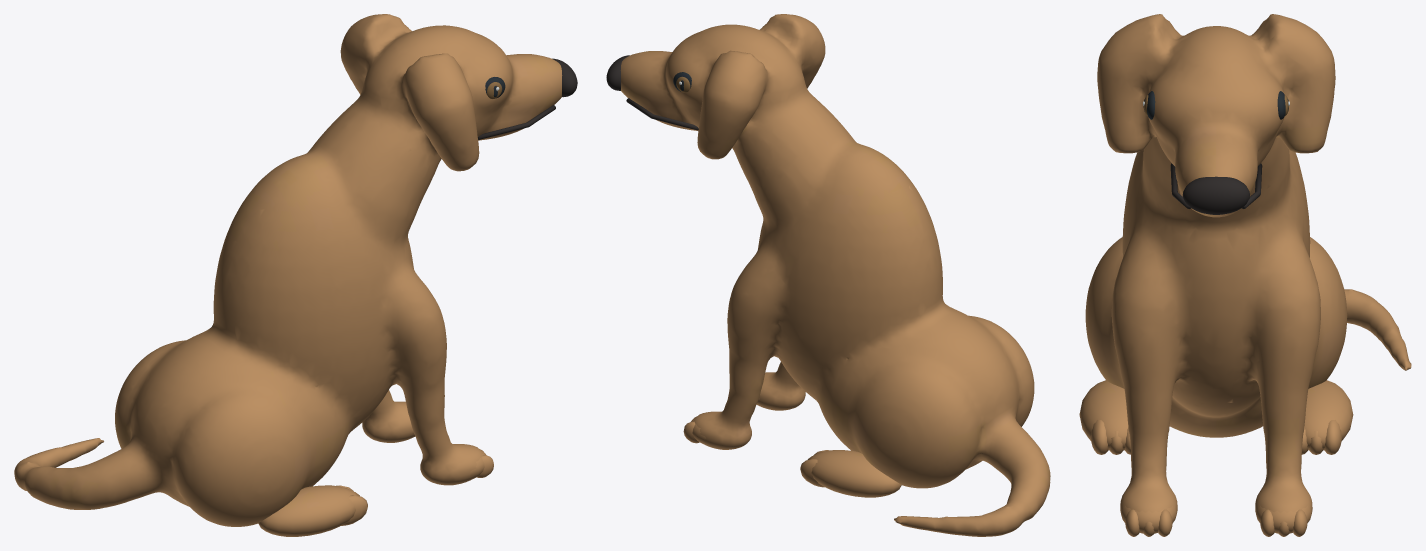
Rendered from nature-dog-medium-sitting.glb.
The picture shows the model from 3 angles, left to right: view 1: azimuth 30°, elevation 25°; view 2: azimuth 150°, elevation 25°; view 3: azimuth 270°, elevation 25°; orthographic projection. The views are drawn at different scales.
Parts seen in each view (by area): view 1: Continuous anatomical skin, Rounded paw.001; view 2: Continuous anatomical skin, Rounded paw.003; view 3: Continuous anatomical skin, Rounded paw.003, Rounded paw.001, Nose, Rounded paw, Rounded paw.002, Toe.003, Toe.011.
Boxes of the visible parts, bbox=[...] form: Continuous anatomical skin: bbox=[14, 14, 562, 526]; Rounded paw.001: bbox=[258, 485, 358, 536]; Continuous anatomical skin: bbox=[620, 14, 1050, 536]; Rounded paw.003: bbox=[809, 450, 901, 497]; Continuous anatomical skin: bbox=[1085, 14, 1411, 512]; Rounded paw.003: bbox=[1304, 380, 1353, 450]; Rounded paw.001: bbox=[1079, 380, 1128, 450]; Nose: bbox=[1182, 176, 1249, 214]; Rounded paw: bbox=[1120, 506, 1177, 533]; Rounded paw.002: bbox=[1255, 505, 1312, 533]; Toe.003: bbox=[1090, 420, 1108, 454]; Toe.011: bbox=[1324, 420, 1341, 454].
Bounding box in the file's own units: 0.8547 × 0.7 × 0.4216.
Materials: 5 (5 with a texture image).
